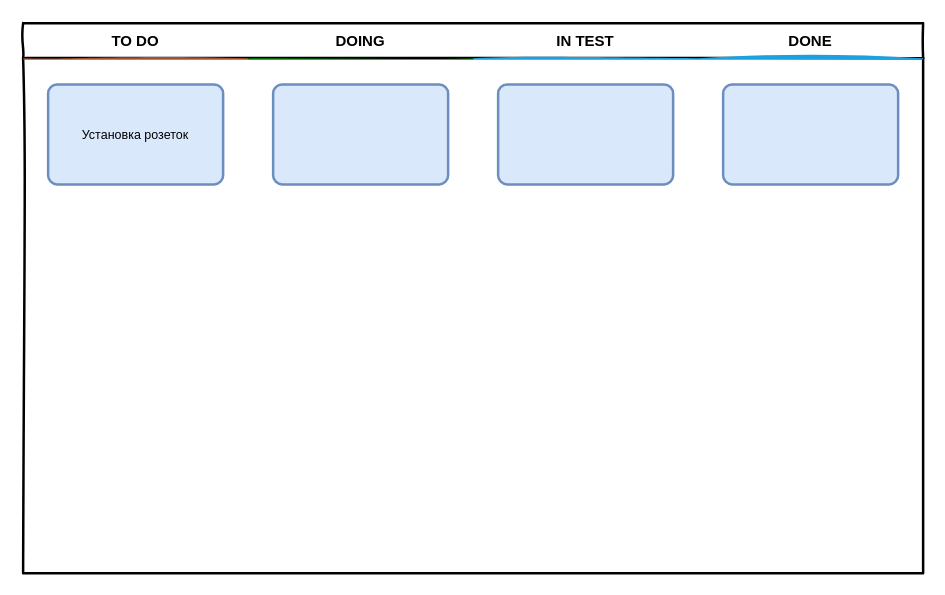
Some shapes in this 945 by 595 pixel diagram are drawn without their labels. The centre of each missing label's shape, as x and y in pixels:
Демонтаж старой сантехники, установка новых труб: point (360, 133)
Демонтаж старых и установка новых окон: point (810, 133)
Демонтаж старых и установка новых радиаторов: point (585, 133)
